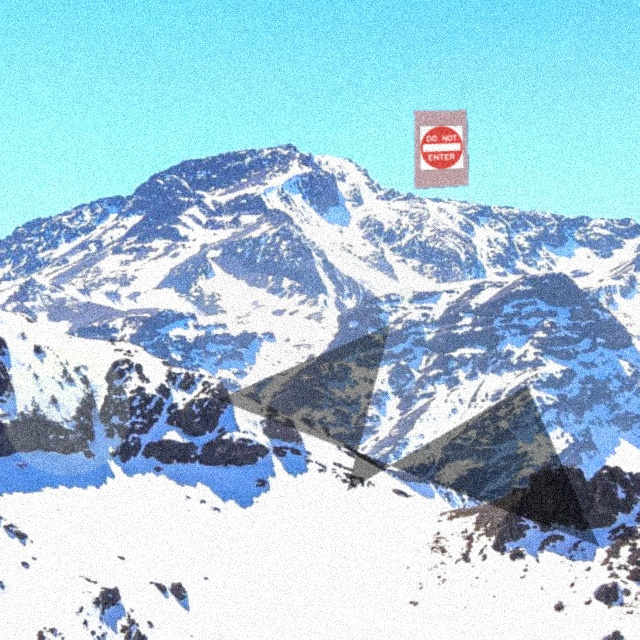DO_NOT_ENTER: (420, 125, 464, 171)
